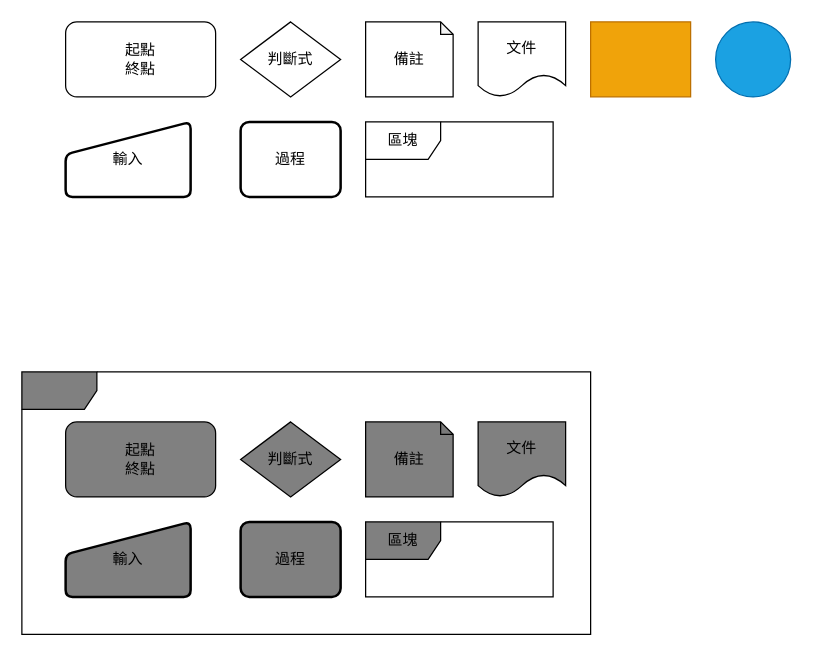
This 813x656 diagram has some shape labels left out. Here are the shapes that lost their labels. From the top down, the box of each, then its label:
(589, 21, 691, 97): 資料表 or 欄位
(714, 21, 791, 97): 動作
(21, 371, 591, 634): 停用
